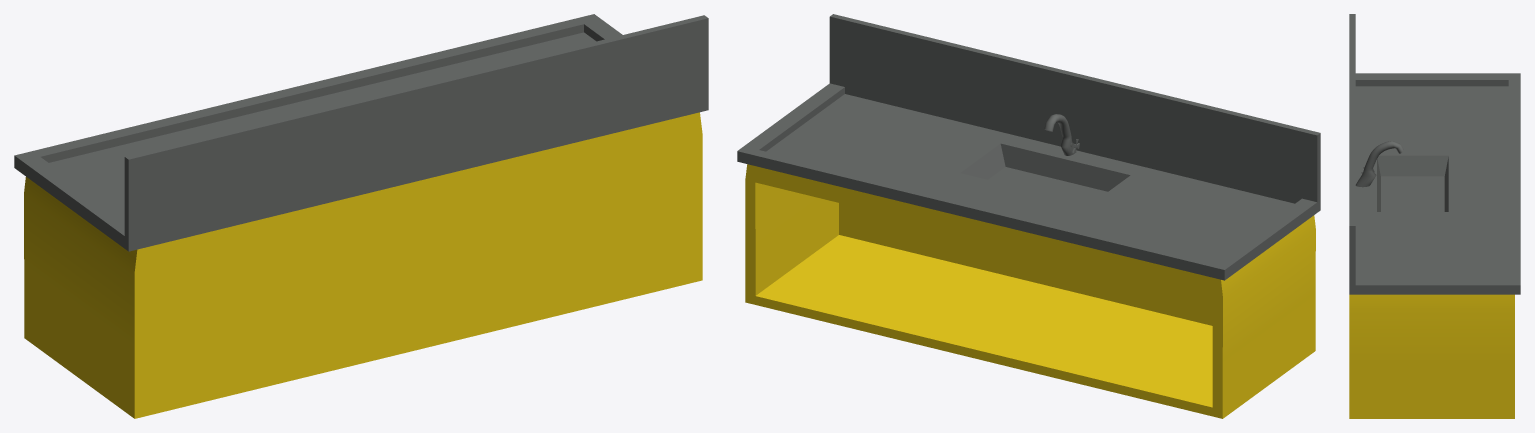
The model's file is pia.FBX.
3 renders of one model, left to right at view 1: azimuth 30°, elevation 25°; view 2: azimuth 150°, elevation 25°; view 3: azimuth 270°, elevation 25°, orthographic. The views are drawn at different scales.
Visible parts, largest first — view 1: Box001; view 2: Box001; view 3: Box001.
Boxes of the visible parts, x1,y1,x2,y2 form: Box001: [14, 14, 708, 418]; Box001: [737, 14, 1320, 418]; Box001: [1349, 14, 1520, 418].
Size of the model in its own units: 177 by 75.84 by 60.26.
